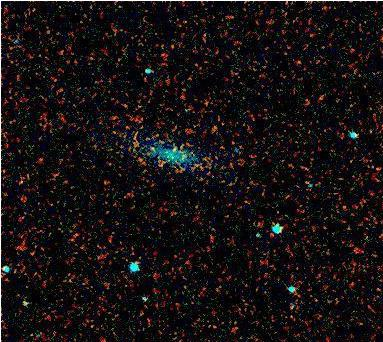star: (147, 134, 177, 164)
